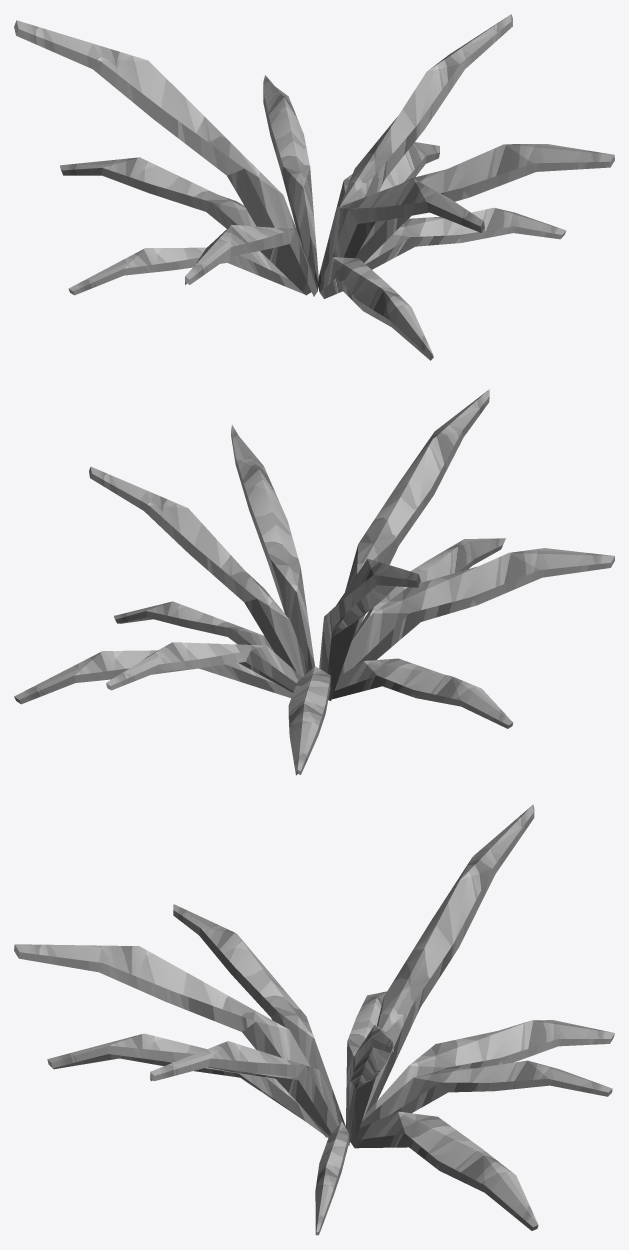
The model's file is 07_grass.fbx.
3 renders of one model, top to bottom at view 1: azimuth 30°, elevation 25°; view 2: azimuth 150°, elevation 25°; view 3: azimuth 270°, elevation 25°, orthographic. The views are drawn at different scales.
Parts seen in each view (by area): view 1: Grass; view 2: Grass; view 3: Grass.
Boxes of the visible parts, x1,y1,x2,y2 form: Grass: (14, 14, 614, 360); Grass: (14, 389, 614, 775); Grass: (14, 804, 614, 1235).
Size of the model in its own units: 0.42 by 0.2209 by 0.4959.
Materials: 1 (1 with a texture image).
